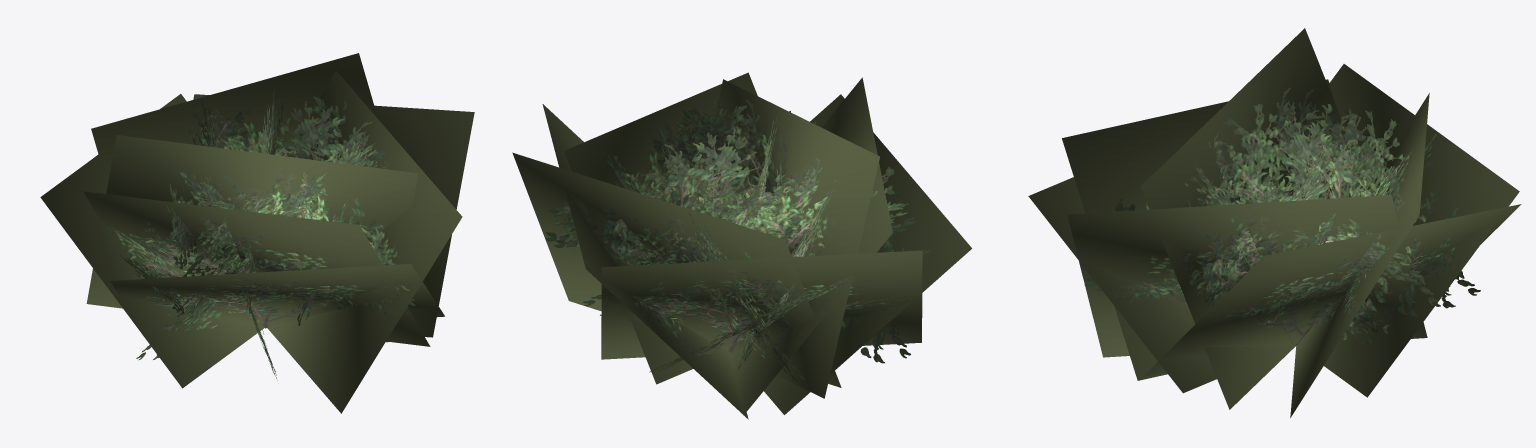
The model's file is shrb_leafy_full_green_a2_l0.fbx.
The picture shows the model from 3 angles, left to right: view 1: azimuth 30°, elevation 25°; view 2: azimuth 150°, elevation 25°; view 3: azimuth 270°, elevation 25°; orthographic projection. The views are drawn at different scales.
Parts seen in each view (by area): view 1: mesh_node; view 2: mesh_node; view 3: mesh_node.
Part boxes in pixels (box(x1,y1,x2,y2)): mesh_node: box(40, 53, 474, 413); mesh_node: box(512, 72, 971, 419); mesh_node: box(1028, 28, 1521, 417).
Bounding box in the file's own units: 1.51 × 1.27 × 1.51.
